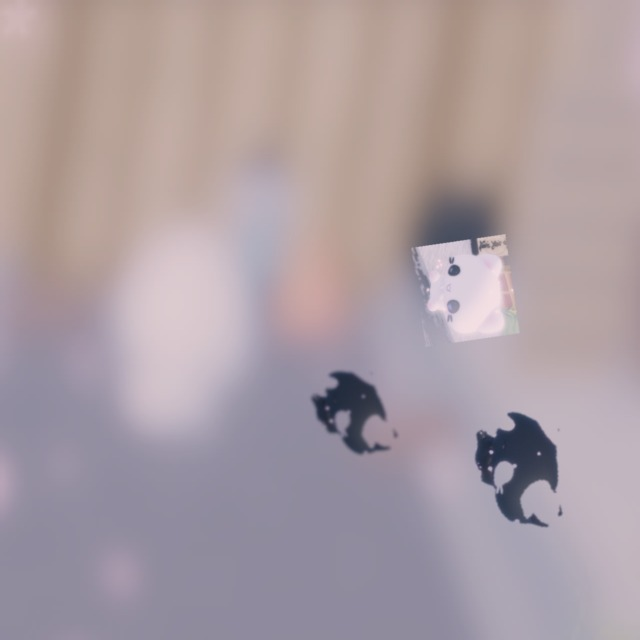urso_branco: (411, 234, 520, 347)
urso_preto: (454, 384, 588, 556), (286, 339, 423, 488)
